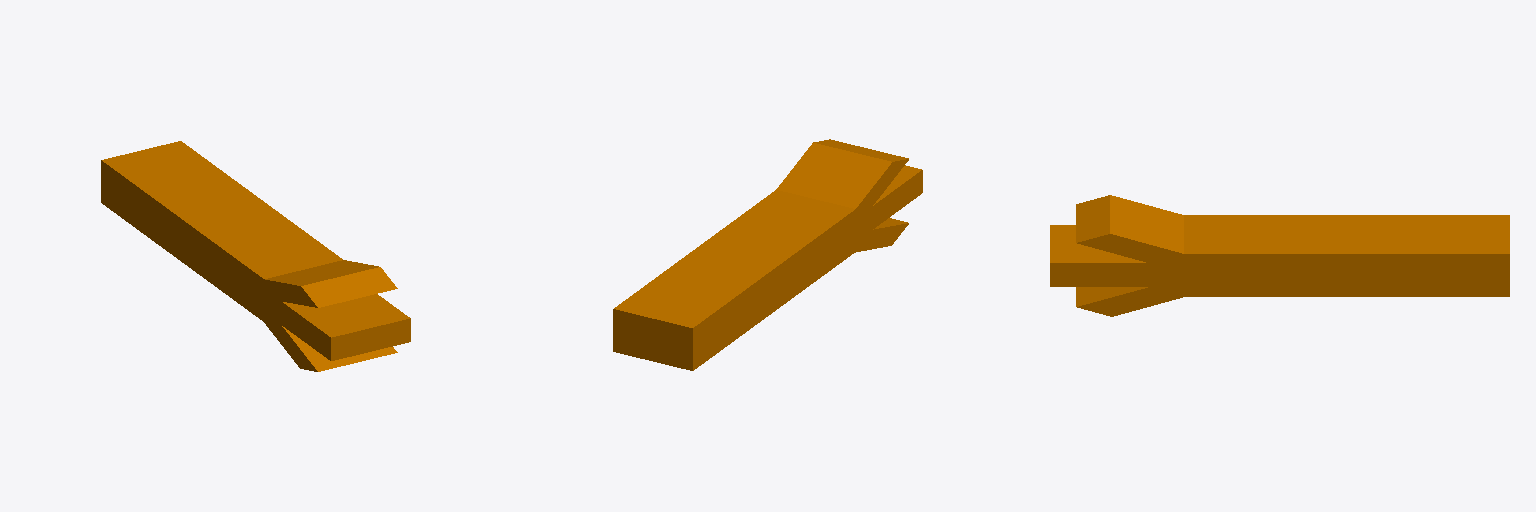
File: wheat.obj
3 renders of one model, left to right at view 1: azimuth 30°, elevation 25°; view 2: azimuth 150°, elevation 25°; view 3: azimuth 270°, elevation 25°, orthographic.
Parts seen in each view (by area): view 1: Cube; view 2: Cube; view 3: Cube.
Part boxes in pixels (left/top/right/bottom): Cube: left=101, top=141, right=410, bottom=371; Cube: left=613, top=139, right=922, bottom=370; Cube: left=1050, top=195, right=1509, bottom=316.
Bounding box in the file's own units: 0.2 × 0.2 × 1.